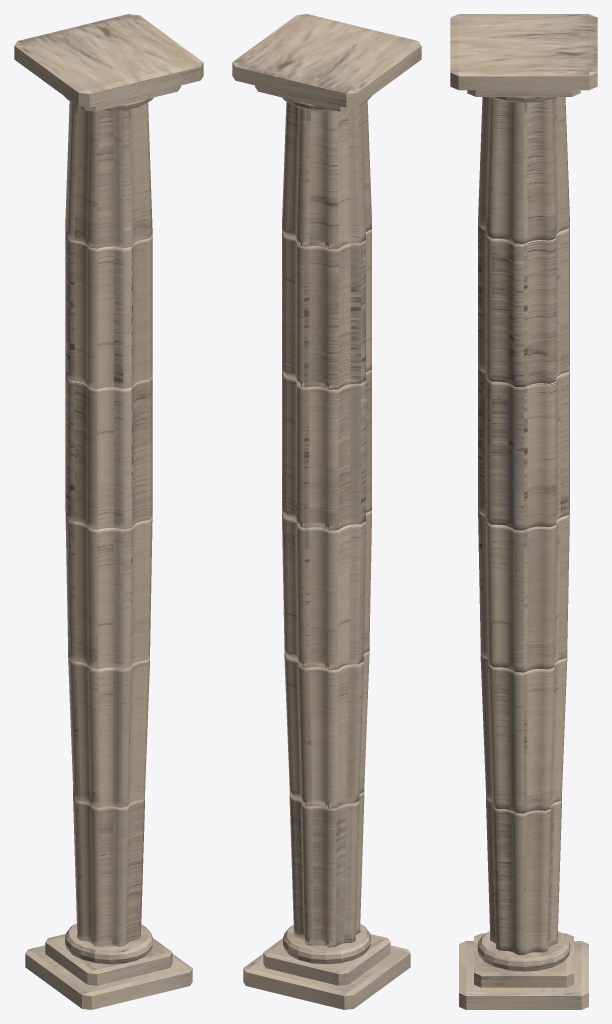
Rendered from GreekTemplePillar2.obj.
3 views of the same model, side by side, from view 1: azimuth 30°, elevation 25°; view 2: azimuth 150°, elevation 25°; view 3: azimuth 270°, elevation 25° (orthographic).
Visible parts, largest first — view 1: Full_Pillar.012_Cube.069; view 2: Full_Pillar.012_Cube.069; view 3: Full_Pillar.012_Cube.069.
Part boxes in pixels (<box>): Full_Pillar.012_Cube.069: <box>14,14,203,1009</box>; Full_Pillar.012_Cube.069: <box>232,14,421,1009</box>; Full_Pillar.012_Cube.069: <box>450,14,597,1009</box>.
Size of the model in its own units: 0.7601 by 5.35 by 0.7601.
